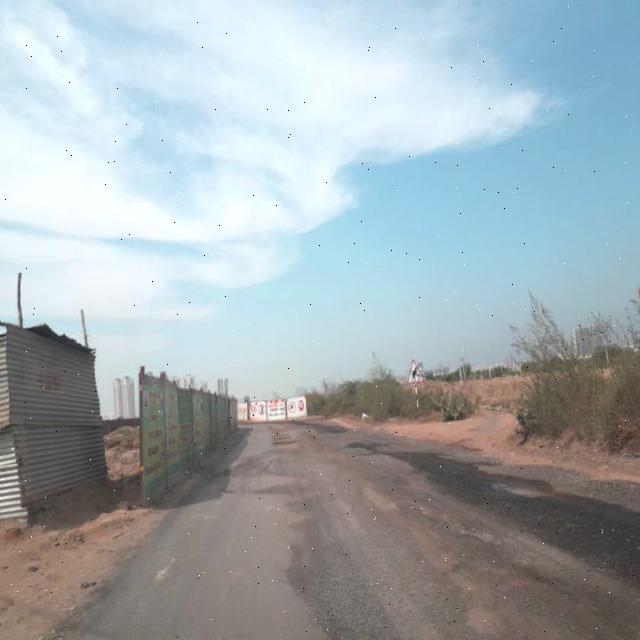D40: (263, 437, 631, 636)
